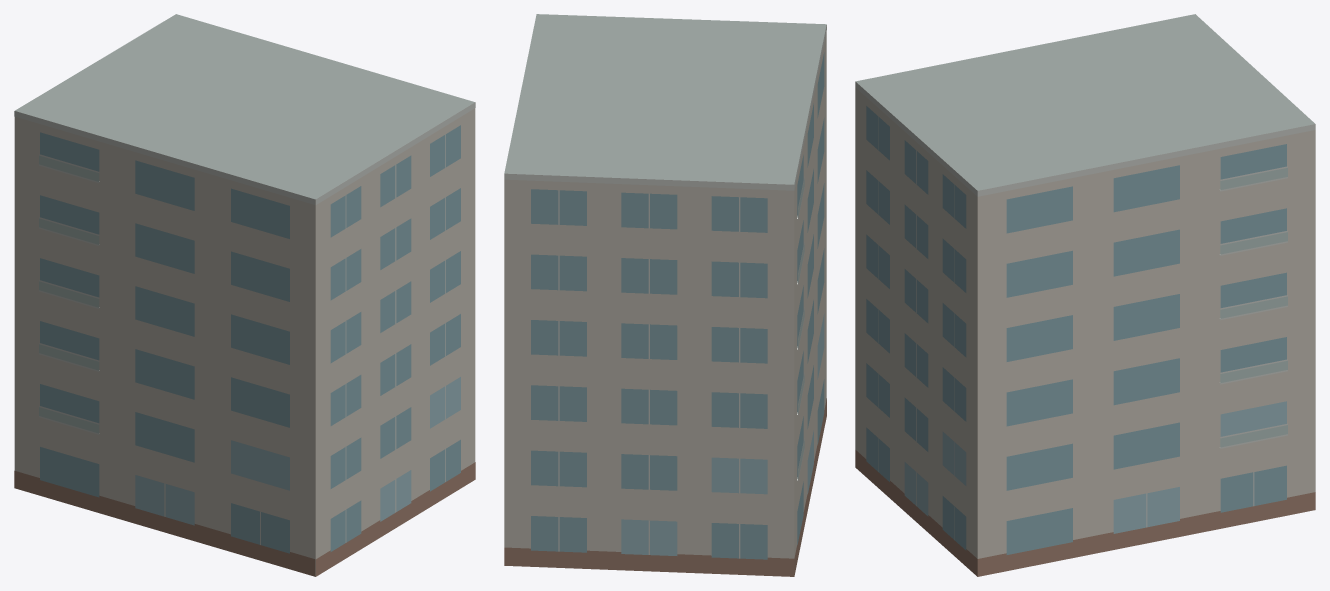
The model's file is survey-upis-33026912.glb.
3 views of the same model, side by side, from view 1: azimuth 30°, elevation 25°; view 2: azimuth 150°, elevation 25°; view 3: azimuth 270°, elevation 25° (orthographic). The views are drawn at different scales.
Visible parts, largest first — view 1: survey-upis-33026912.tmp; view 2: survey-upis-33026912.tmp; view 3: survey-upis-33026912.tmp.
Part boxes in pixels (left/top/right/bottom): survey-upis-33026912.tmp: left=14, top=14, right=475, bottom=576; survey-upis-33026912.tmp: left=504, top=14, right=826, bottom=576; survey-upis-33026912.tmp: left=855, top=14, right=1315, bottom=576.
Bounding box in the file's own units: 15.74 × 16 × 17.3.
